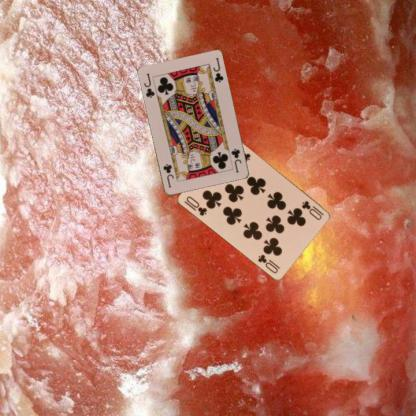10c: (300, 198, 326, 221), (184, 194, 208, 217)
Jc: (228, 146, 243, 174), (142, 70, 156, 100)
